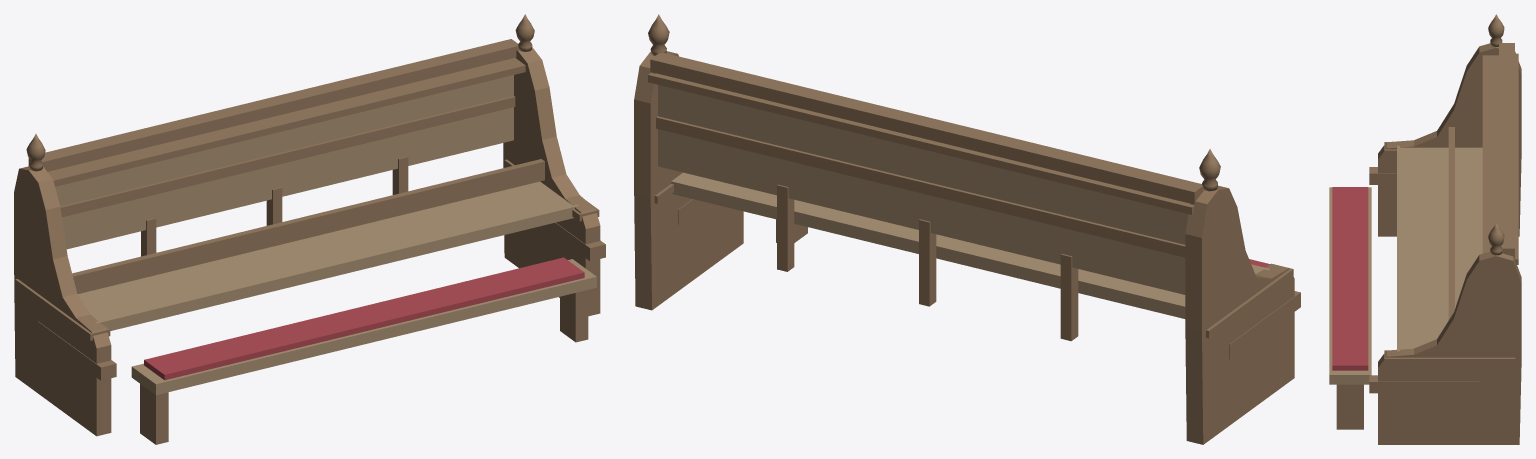
Rendered from Pew.fbx.
The picture shows the model from 3 angles, left to right: view 1: azimuth 30°, elevation 25°; view 2: azimuth 150°, elevation 25°; view 3: azimuth 270°, elevation 25°; orthographic projection. The views are drawn at different scales.
Visible parts, largest first — view 1: Pew; view 2: Pew; view 3: Pew.
Part boxes in pixels (box(x1,y1,x2,y2)): Pew: box(14, 14, 605, 444); Pew: box(634, 14, 1300, 444); Pew: box(1329, 14, 1521, 444).
Size of the model in its own units: 2.42 by 1.14 by 0.91.
